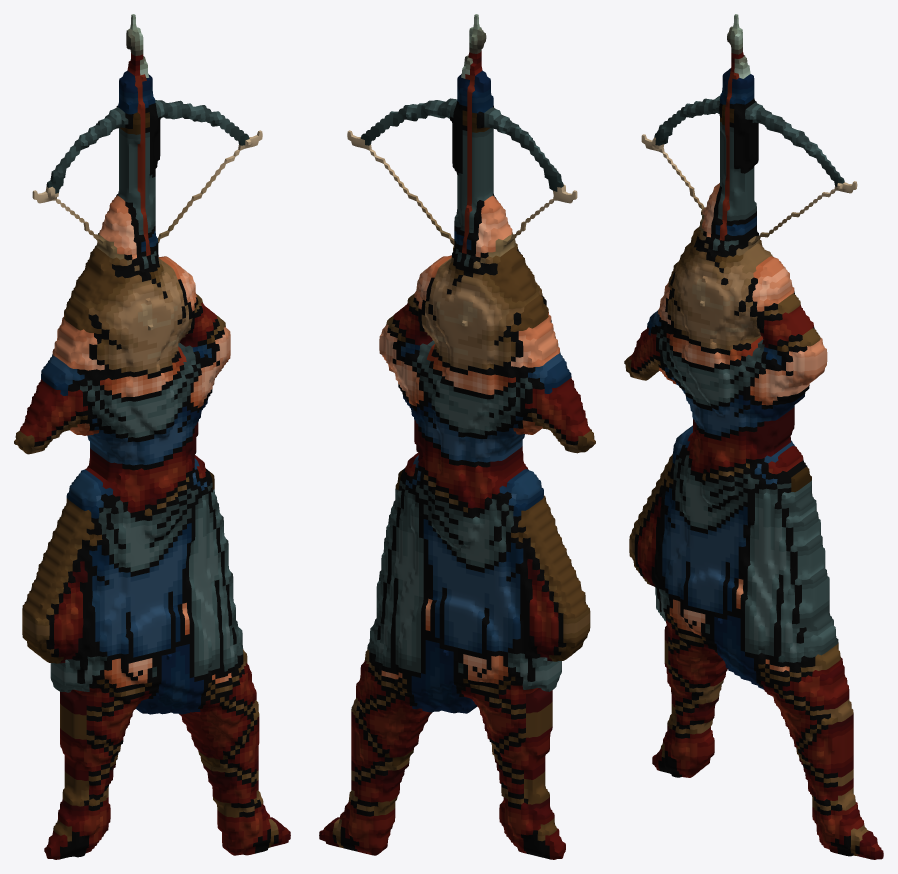
File: Fight_006_2_07.obj
3 renders of one model, left to right at view 1: azimuth 30°, elevation 25°; view 2: azimuth 150°, elevation 25°; view 3: azimuth 330°, elevation 25°, orthographic. The views are drawn at different scales.
Size of the model in its own units: 5.86 by 17.58 by 1.86.
Materials: 1 (1 with a texture image).
